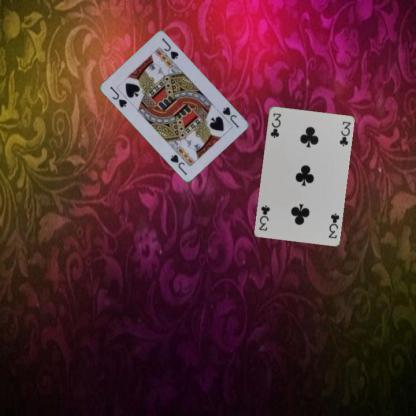3c: (267, 110, 282, 140), (326, 210, 340, 240)
Js: (220, 104, 241, 130), (107, 84, 129, 108)
